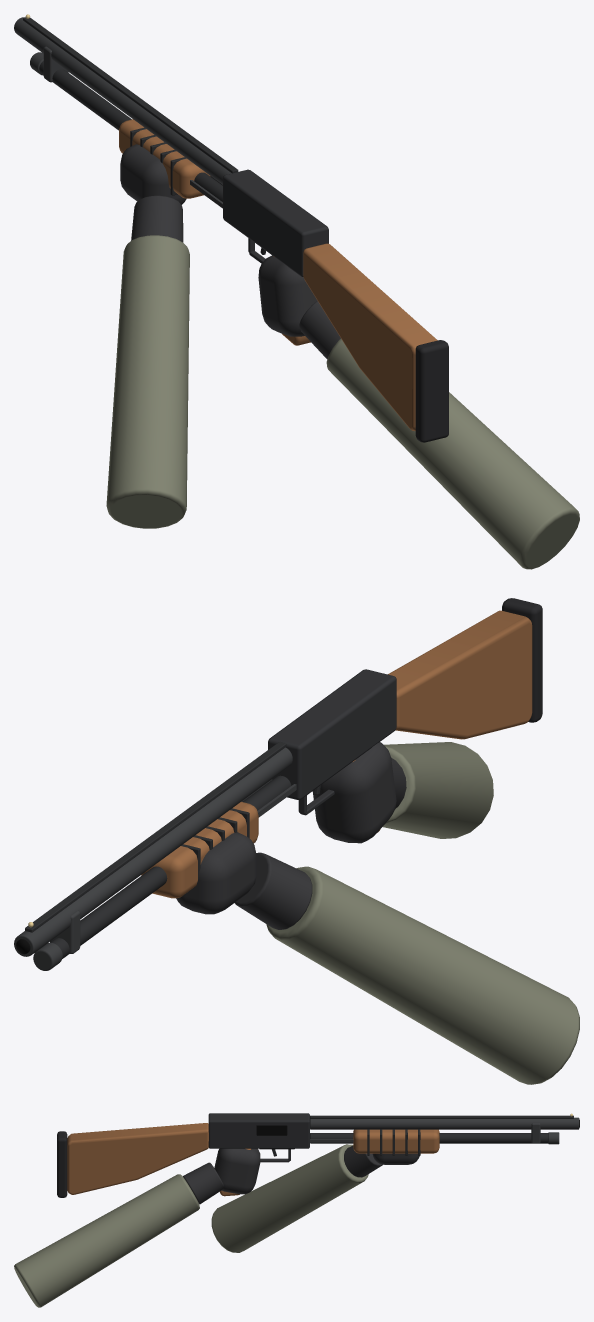
The model's file is keiler.glb.
The picture shows the model from 3 angles, top to bottom: view 1: azimuth 30°, elevation 25°; view 2: azimuth 150°, elevation 25°; view 3: azimuth 270°, elevation 25°; orthographic projection. The views are drawn at different scales.
Parts seen in each view (by area): view 1: SleeveL, SleeveR, Stock, Receiver, Barrel, ButtPad, HandR, HandL, PumpWood, WristL, MagTube, VentRib (+1 smaller); view 2: SleeveL, Stock, Receiver, SleeveR, Barrel, HandR, HandL, WristL, PumpWood, MagTube, VentRib, ButtPad (+1 smaller); view 3: SleeveR, SleeveL, Stock, Receiver, Barrel, PumpWood, HandR, MagTube, VentRib, WristR, WristL, ButtPad (+2 smaller).
Boxes of the visible parts, left/top/right/bottom form: SleeveL: left=106, top=235, right=189, bottom=528; SleeveR: left=326, top=338, right=579, bottom=569; Stock: left=303, top=243, right=437, bottom=430; Receiver: left=223, top=169, right=328, bottom=276; Barrel: left=14, top=17, right=231, bottom=184; ButtPad: left=415, top=340, right=448, bottom=442; HandR: left=258, top=255, right=317, bottom=336; HandL: left=120, top=144, right=186, bottom=204; PumpWood: left=119, top=119, right=210, bottom=198; WristL: left=131, top=195, right=183, bottom=242; MagTube: left=39, top=61, right=222, bottom=201; VentRib: left=23, top=17, right=238, bottom=173; SleeveL: left=266, top=866, right=579, bottom=1084; Stock: left=388, top=610, right=532, bottom=739; Receiver: left=268, top=669, right=396, bottom=799; SleeveR: left=382, top=742, right=493, bottom=838; Barrel: left=14, top=747, right=292, bottom=956; HandR: left=312, top=742, right=396, bottom=843; HandL: left=176, top=832, right=256, bottom=914; WristL: left=235, top=852, right=312, bottom=929; PumpWood: left=141, top=801, right=258, bottom=898; MagTube: left=50, top=775, right=291, bottom=958; VentRib: left=25, top=742, right=286, bottom=932; ButtPad: left=502, top=598, right=542, bottom=722; SleeveR: left=14, top=1174, right=199, bottom=1307; SleeveL: left=211, top=1144, right=368, bottom=1252; Stock: left=67, top=1123, right=208, bottom=1194; Receiver: left=208, top=1113, right=309, bottom=1148; Barrel: left=310, top=1117, right=579, bottom=1129; PumpWood: left=353, top=1129, right=439, bottom=1153; HandR: left=214, top=1148, right=260, bottom=1194; MagTube: left=310, top=1133, right=548, bottom=1143; VentRib: left=310, top=1115, right=573, bottom=1118; WristR: left=183, top=1162, right=223, bottom=1204; WristL: left=344, top=1145, right=382, bottom=1177; ButtPad: left=57, top=1131, right=67, bottom=1197.
Size of the model in its own units: 0.4387 by 0.3937 by 1.11.
